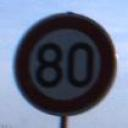speed_limit_80: (12, 12, 117, 117)
